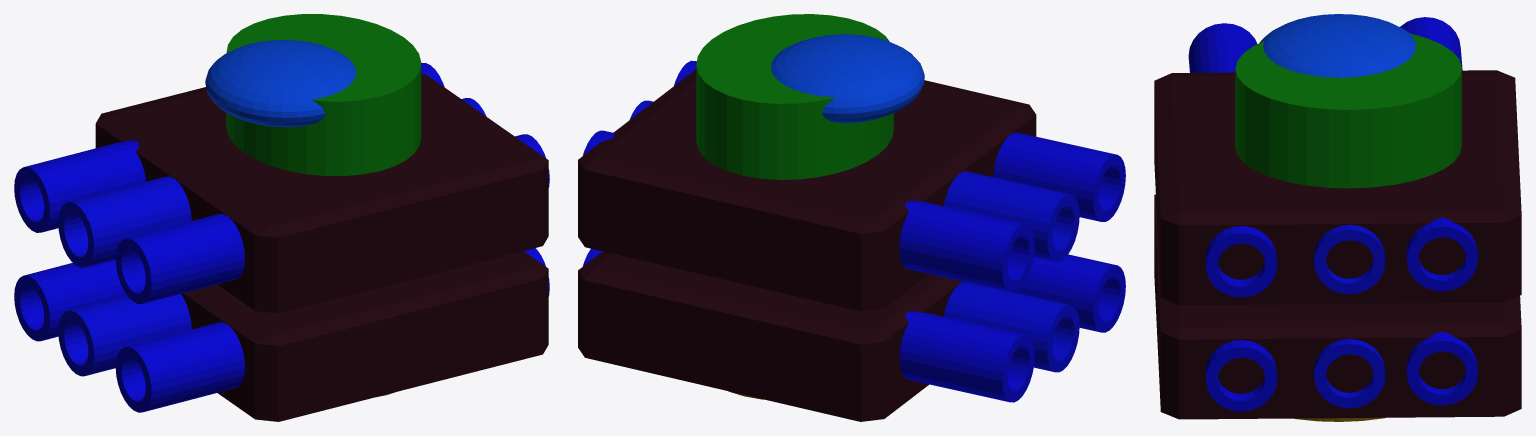
File: boss2.obj
The picture shows the model from 3 angles, left to right: view 1: azimuth 30°, elevation 25°; view 2: azimuth 150°, elevation 25°; view 3: azimuth 270°, elevation 25°; orthographic projection. The views are drawn at different scales.
Parts seen in each view (by area): view 1: Cube, Cube.001, Cylinder.002, Sphere, Cylinder.001_gun3, Cylinder.008_gun4, Cylinder.003_gun1, Cylinder.004_gun2, Cylinder.006_gun5, Cylinder.005_gun6; view 2: Cube, Cube.001, Cylinder.002, Sphere, Cylinder.004_gun2, Cylinder.005_gun6, Cylinder.001_gun3, Cylinder.003_gun1, Cylinder.006_gun5, Cylinder.008_gun4; view 3: Cube, Cube.001, Cylinder.002, Sphere, Cylinder.001_gun3, Cylinder.004_gun2, Cylinder.008_gun4, Cylinder.005_gun6, Cylinder.003_gun1, Cylinder.006_gun5.
Part boxes in pixels (left/top/right/bottom): Cube: left=95, top=73, right=548, bottom=313; Cube.001: left=181, top=251, right=548, bottom=421; Cylinder.002: left=226, top=14, right=421, bottom=175; Sphere: left=205, top=40, right=356, bottom=127; Cylinder.001_gun3: left=115, top=134, right=549, bottom=303; Cylinder.008_gun4: left=115, top=248, right=549, bottom=412; Cylinder.003_gun1: left=58, top=98, right=486, bottom=267; Cylinder.004_gun2: left=14, top=63, right=444, bottom=232; Cylinder.006_gun5: left=58, top=294, right=191, bottom=376; Cylinder.005_gun6: left=14, top=260, right=126, bottom=341; Cube: left=578, top=69, right=1036, bottom=311; Cube.001: left=578, top=251, right=964, bottom=421; Cylinder.002: left=696, top=14, right=893, bottom=179; Sphere: left=771, top=34, right=924, bottom=123; Cylinder.004_gun2: left=583, top=130, right=1034, bottom=291; Cylinder.005_gun6: left=583, top=248, right=1034, bottom=402; Cylinder.001_gun3: left=674, top=60, right=1125, bottom=221; Cylinder.003_gun1: left=629, top=100, right=1079, bottom=261; Cylinder.006_gun5: left=943, top=282, right=1079, bottom=372; Cylinder.008_gun4: left=1013, top=254, right=1125, bottom=332; Cube: left=1154, top=70, right=1521, bottom=305; Cube.001: left=1154, top=194, right=1521, bottom=419; Cylinder.002: left=1235, top=33, right=1461, bottom=188; Sphere: left=1259, top=14, right=1415, bottom=77; Cylinder.001_gun3: left=1188, top=23, right=1277, bottom=297; Cylinder.004_gun2: left=1400, top=17, right=1478, bottom=291; Cylinder.008_gun4: left=1205, top=340, right=1277, bottom=411; Cylinder.005_gun6: left=1406, top=331, right=1478, bottom=405; Cylinder.003_gun1: left=1313, top=224, right=1385, bottom=294; Cylinder.006_gun5: left=1313, top=339, right=1385, bottom=408.
Bounding box in the file's own units: 12.85 × 9.19 × 9.37.
